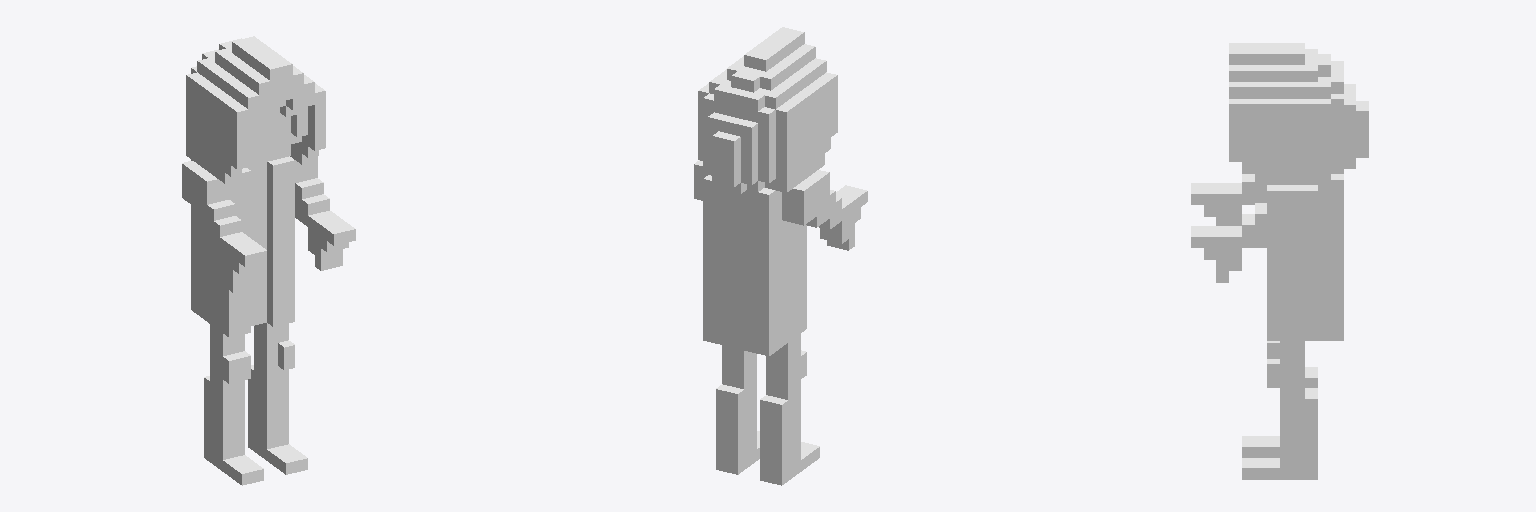
Rendered from CultistModel.obj.
The picture shows the model from 3 angles: view 1: azimuth 30°, elevation 25°; view 2: azimuth 150°, elevation 25°; view 3: azimuth 270°, elevation 25°; orthographic projection.
Parts seen in each view (by area): view 1: object 1; view 2: object 1; view 3: object 1.
Part boxes in pixels (left/top/right/bottom): object 1: left=182, top=36, right=355, bottom=485; object 1: left=694, top=27, right=867, bottom=485; object 1: left=1191, top=43, right=1368, bottom=479.
Bounding box in the file's own units: 1 × 3.6 × 1.4.